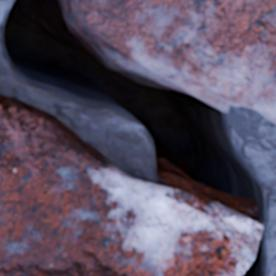brick: (0, 96, 262, 275), (80, 0, 275, 123)
crack: (2, 0, 274, 275)
